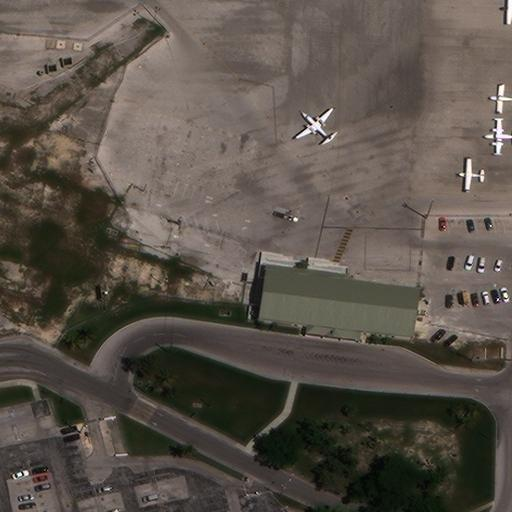Small Civil Transport: (295, 107, 331, 142), (481, 118, 512, 154), (456, 159, 486, 190), (487, 85, 512, 113), (499, 0, 512, 24)
